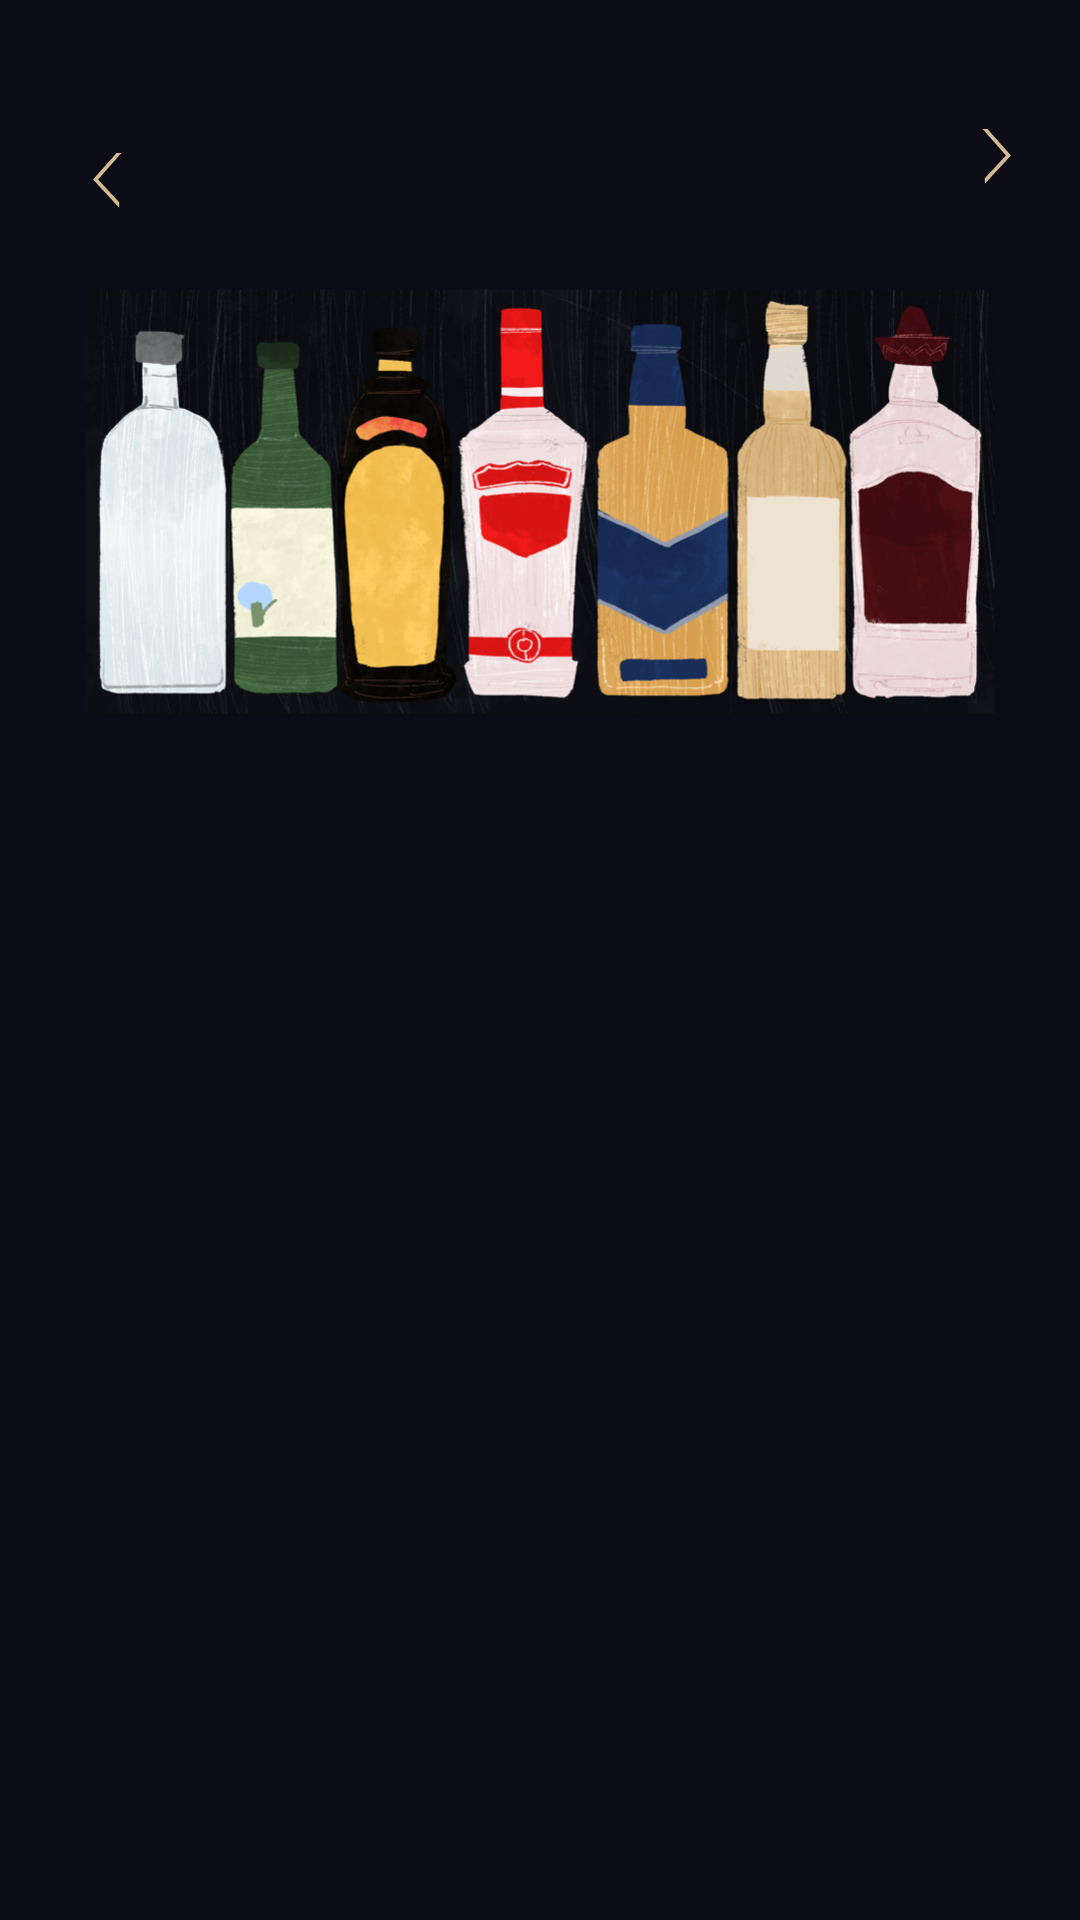

Where to tap for icons on this 1080w x 1920h app screen, as (x,y):
arrow back: (107,180)
arrow front: (997,156)
